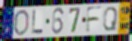6: (52, 7, 65, 36)
7: (68, 7, 83, 34)
F: (85, 6, 103, 35)
L: (31, 10, 44, 35)
O: (13, 9, 30, 37)
Q: (102, 6, 119, 32)
